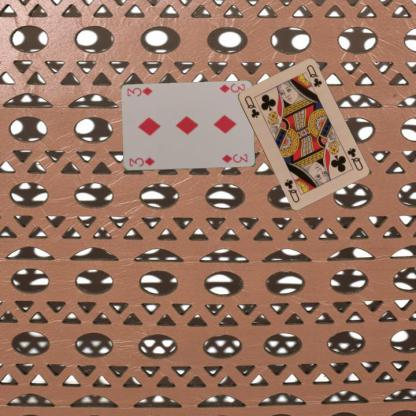3d: (127, 155, 156, 168), (217, 82, 246, 94)
Qc: (344, 145, 364, 172), (242, 93, 260, 119)
